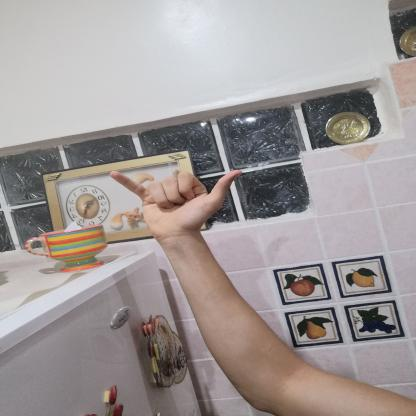YA: (96, 157, 254, 244)
